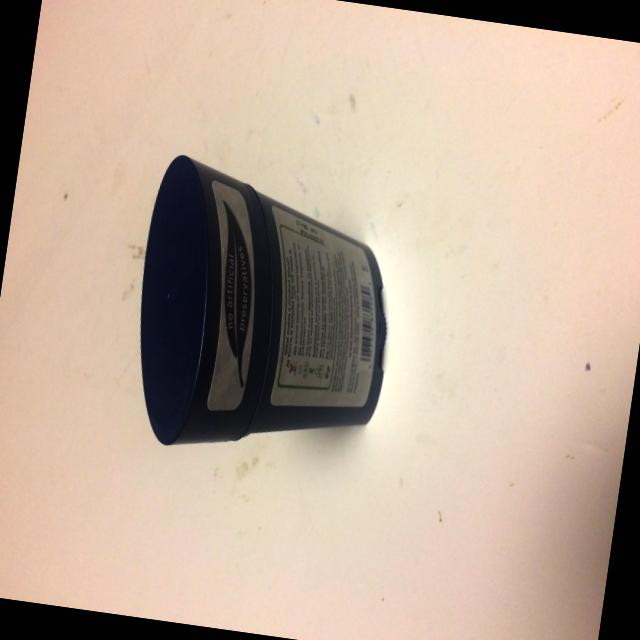Plastic: (91, 84, 458, 529)
